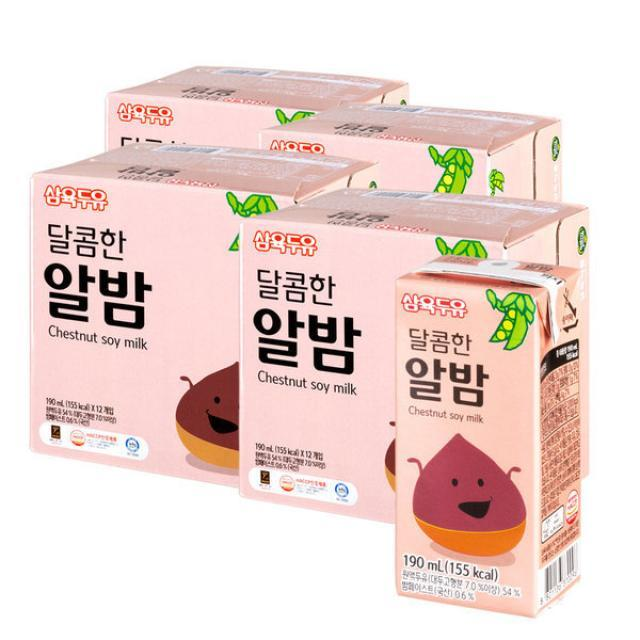Tetra: (393, 246, 584, 640)
